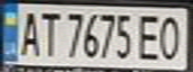5: (115, 10, 139, 60)
6: (81, 10, 103, 58)
7: (60, 9, 84, 58), (97, 10, 118, 60)
A: (15, 7, 42, 57)
E: (136, 11, 163, 62)
O: (154, 11, 187, 62)
T: (33, 8, 60, 57)
